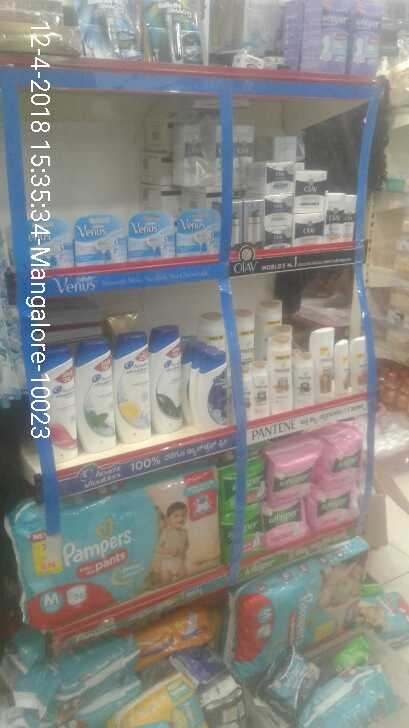gillete: (73, 1, 143, 61), (145, 1, 204, 64)
venus: (74, 213, 126, 265), (128, 210, 174, 259), (29, 216, 69, 271), (176, 209, 220, 258)
